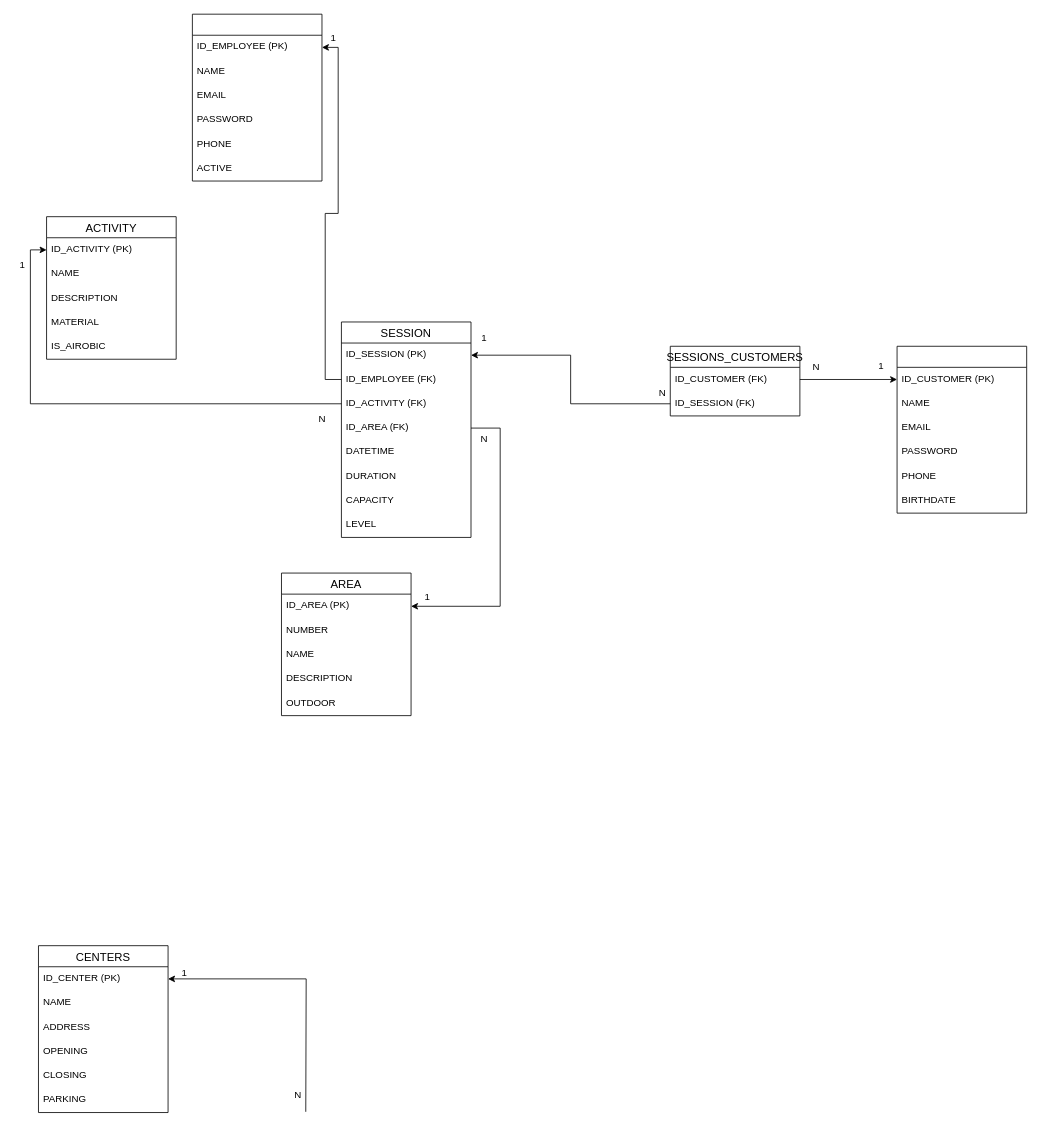
The diagram is 1047 pixels wide and 1133 high, and some of its shapes have lost their labels. Here are the shapes that lost their labels. From the top down, the box of each, then its label:
(192, 13, 322, 181): EMPLOYEES
(896, 345, 1027, 513): CUSTOMERS
